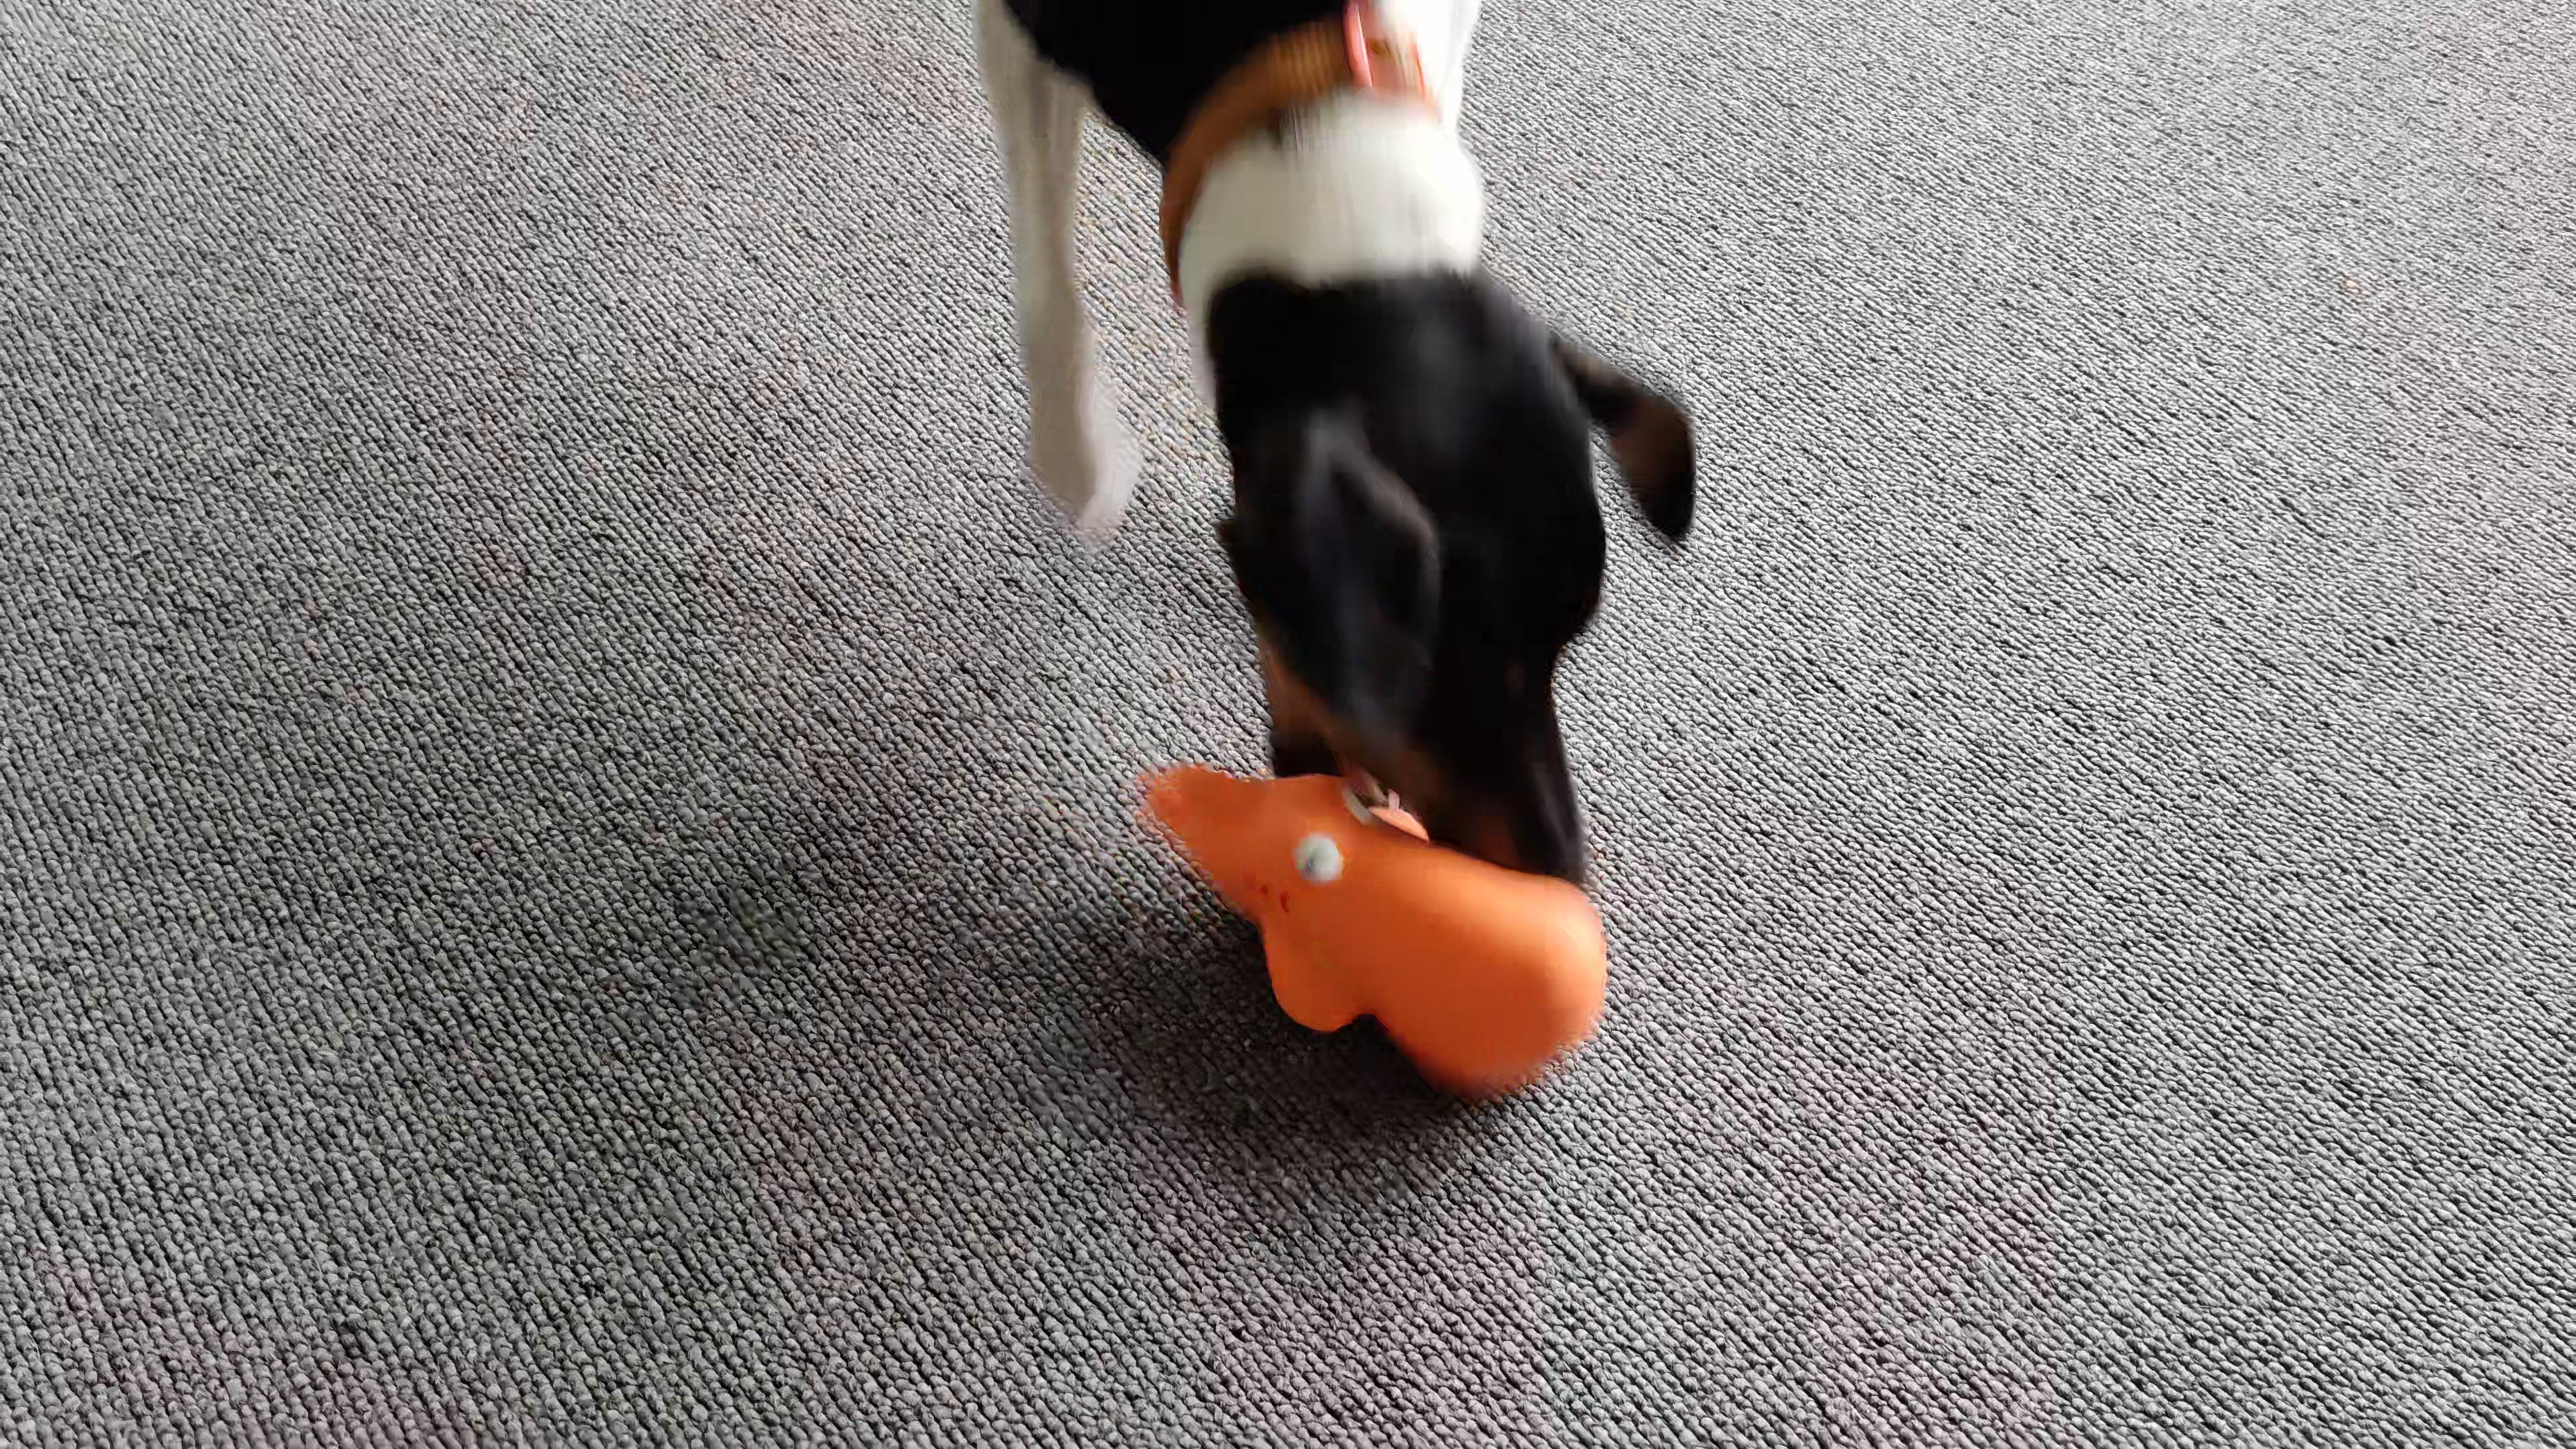Dog: (966, 0, 1704, 893)
